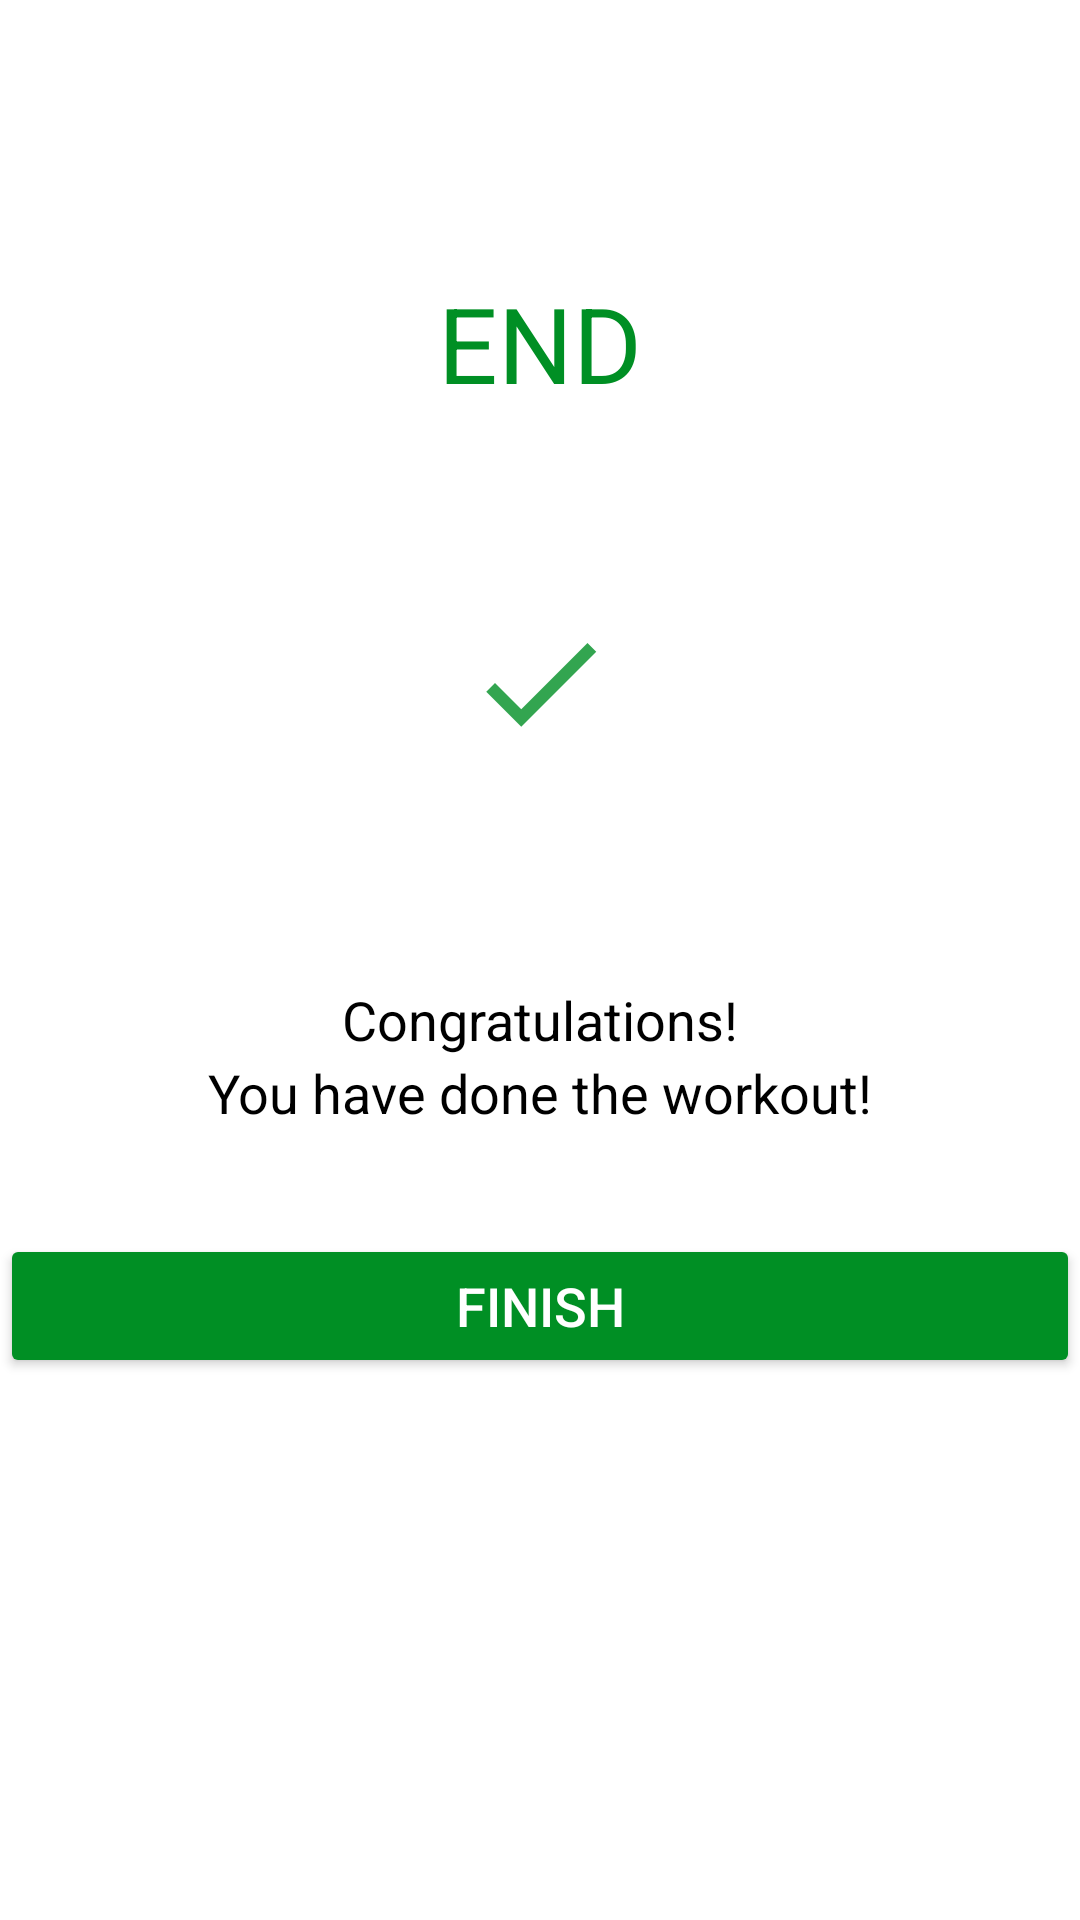

Icons on this 1080*1920 Android screen, each with its box as (x1, y1, x2, y2):
done: (486, 643, 596, 727)
